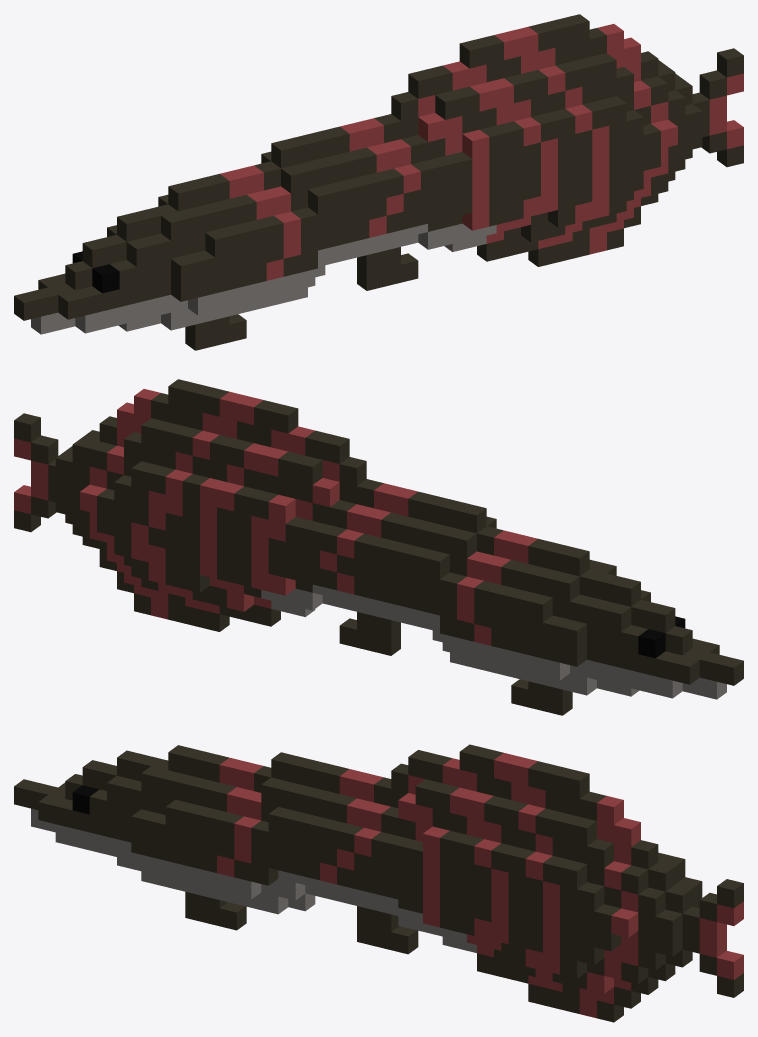
The model's file is pirarucu_quads.fbx.
The picture shows the model from 3 angles, top to bottom: view 1: azimuth 30°, elevation 25°; view 2: azimuth 150°, elevation 25°; view 3: azimuth 330°, elevation 25°; orthographic projection.
Visible parts, largest first — view 1: Pirarucu; view 2: Pirarucu; view 3: Pirarucu.
Boxes of the visible parts, bbox=[...] form: Pirarucu: bbox=[14, 14, 743, 350]; Pirarucu: bbox=[14, 379, 743, 715]; Pirarucu: bbox=[14, 744, 743, 1022].
Bounding box in the file's own units: 420 × 130 × 50.
